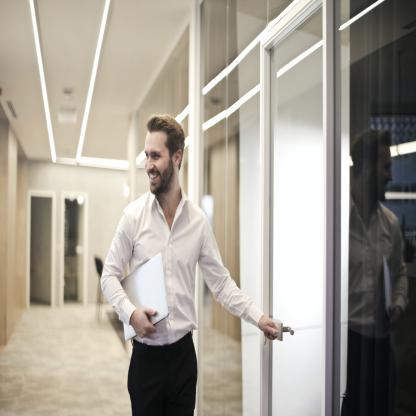Eye: (152, 152, 160, 160), (146, 152, 150, 158)
Mouth: (148, 172, 160, 180)
Nose: (145, 157, 155, 171)
